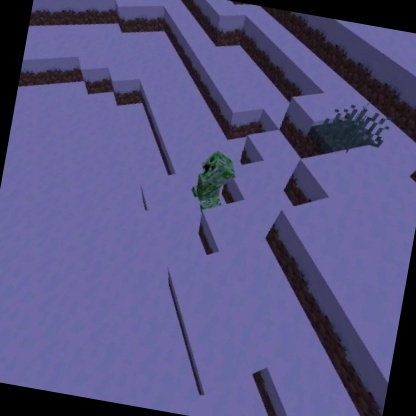creeper: (185, 145, 242, 217)
